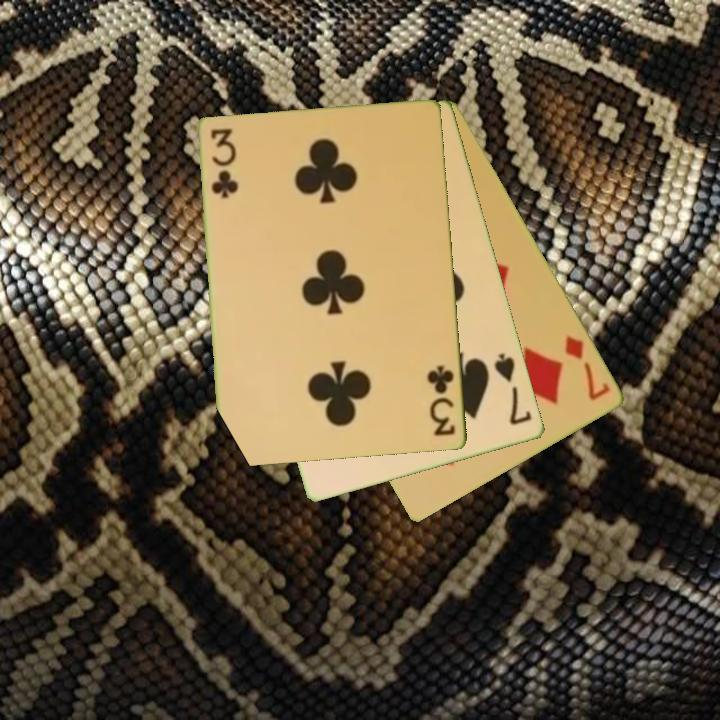3c: (424, 362, 458, 440), (207, 125, 237, 202)
7d: (561, 332, 614, 404)
7s: (491, 350, 535, 429)
